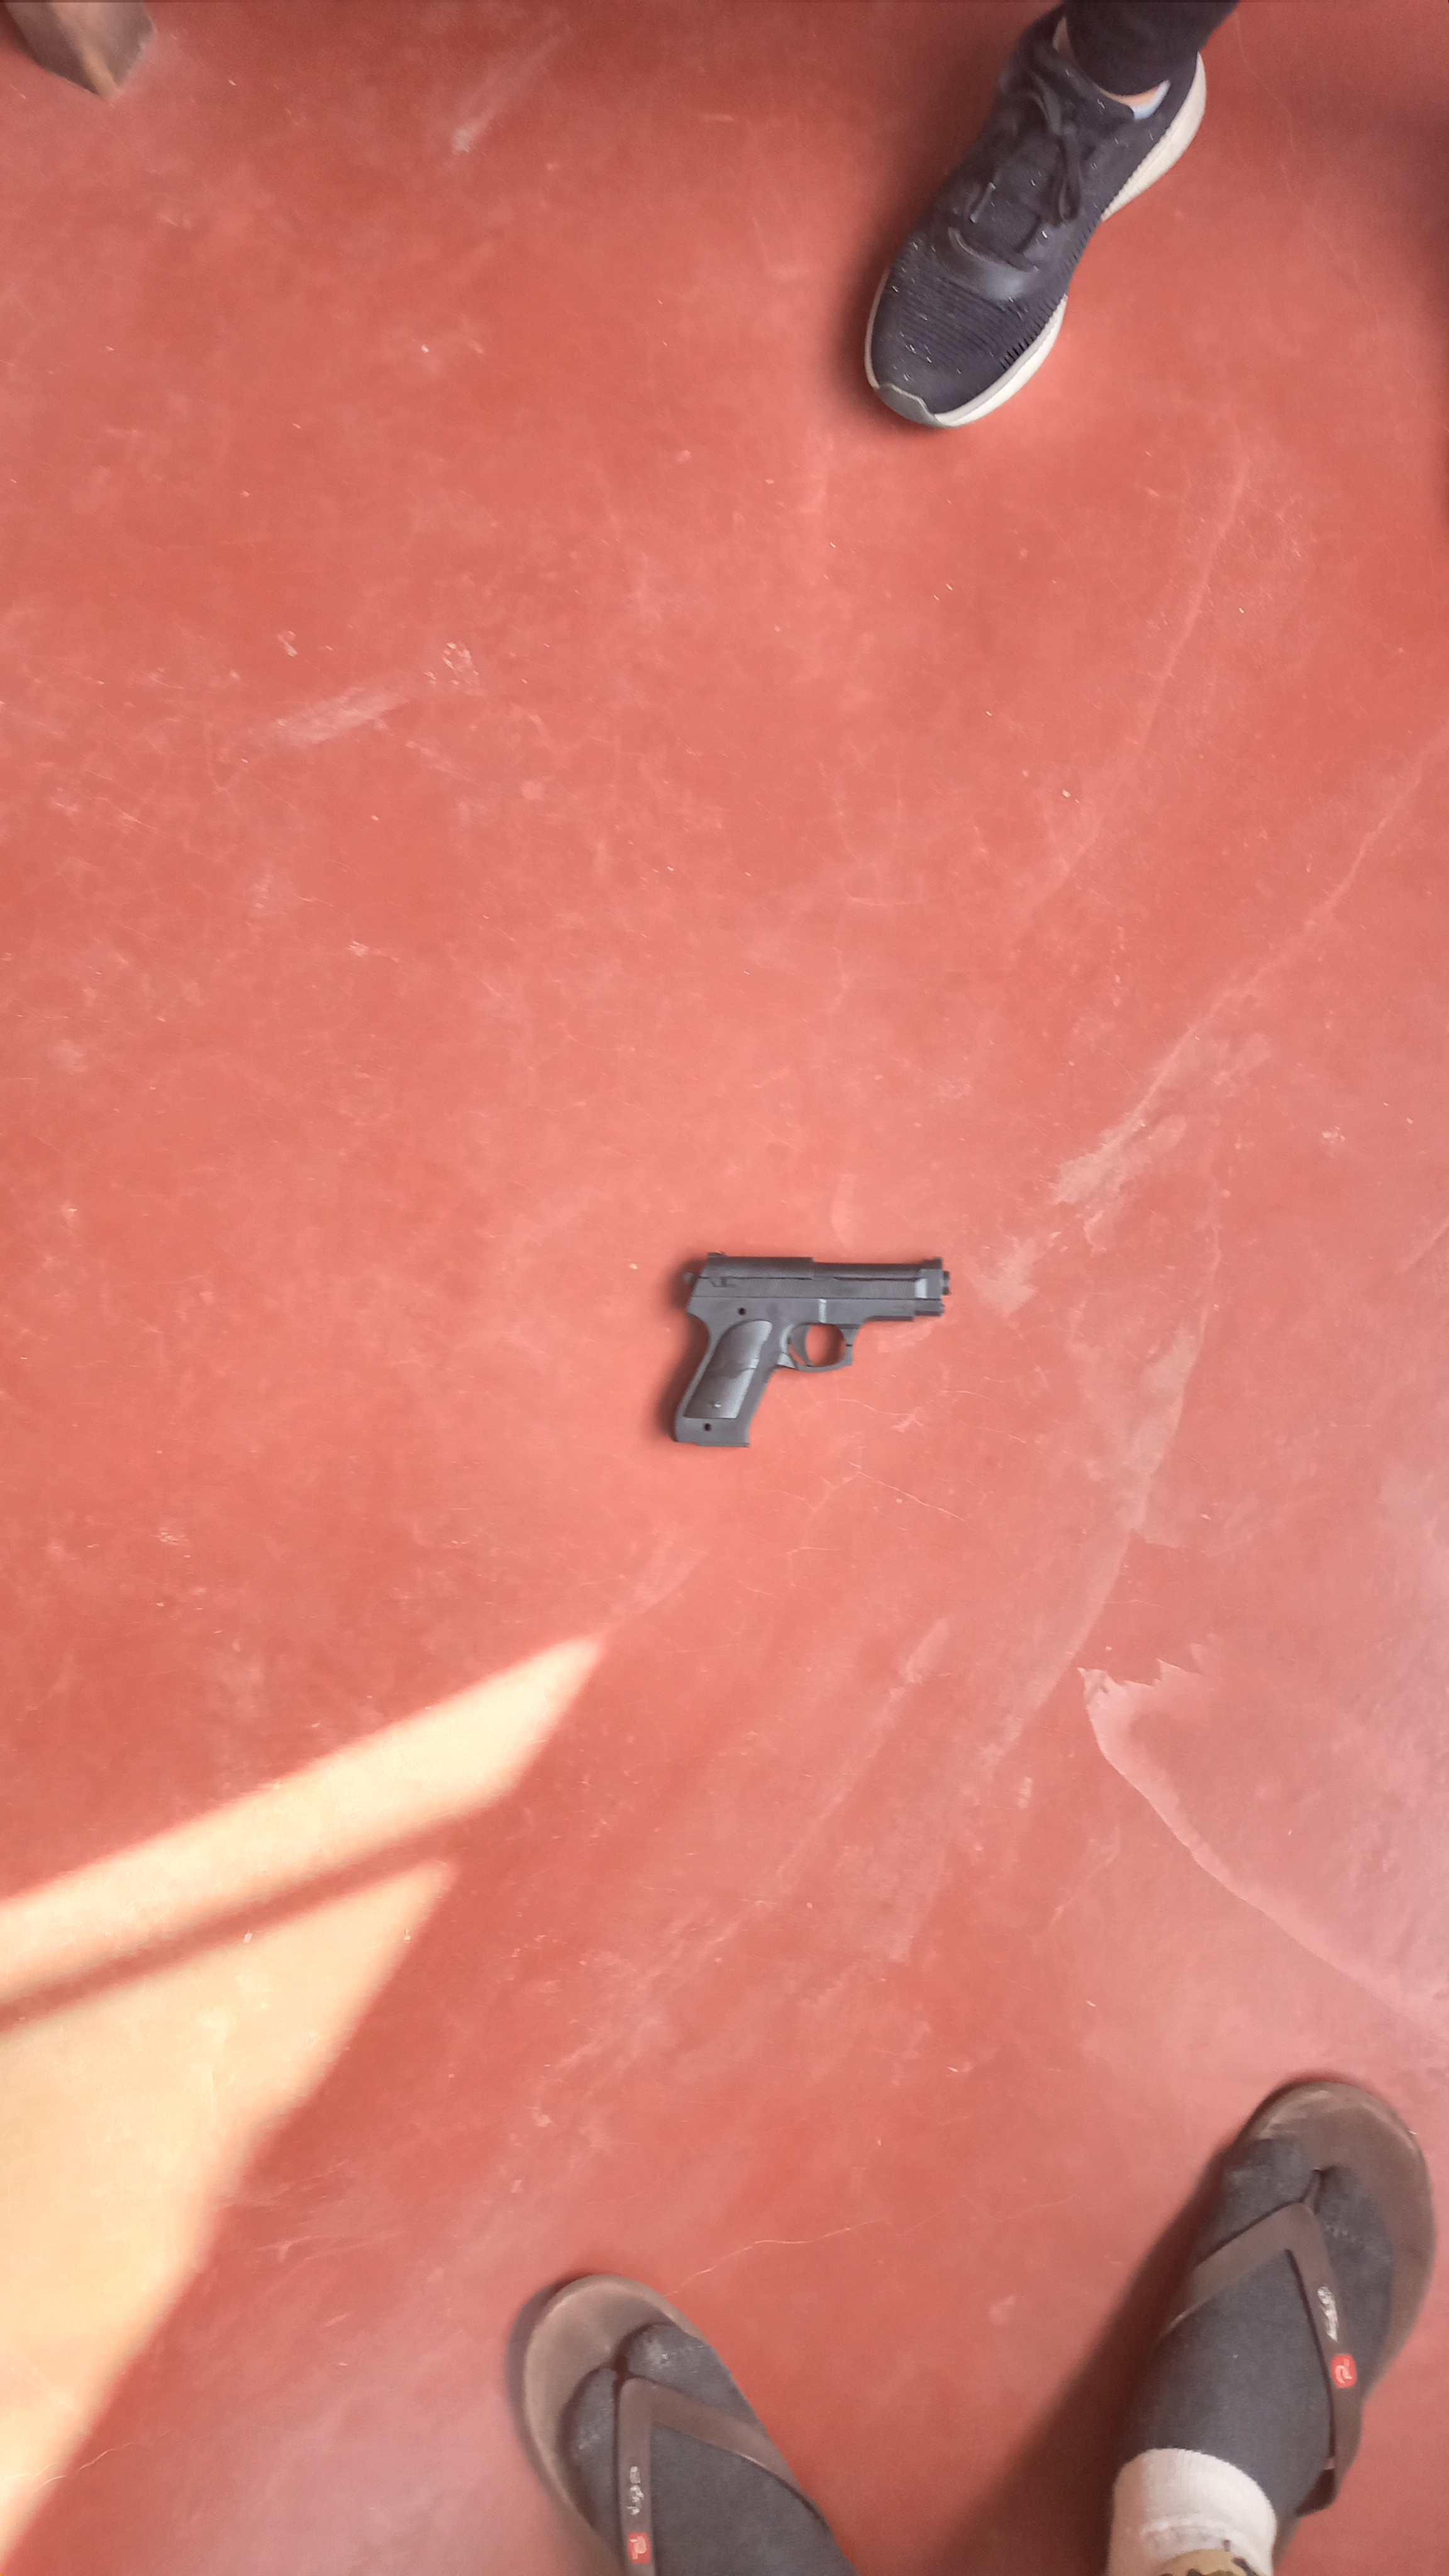Arma: (648, 1249, 962, 1378)
